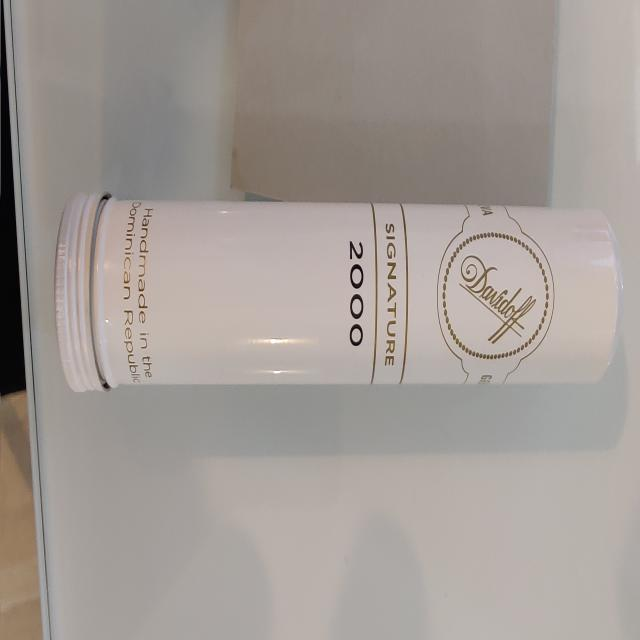Davidoff: (459, 255, 536, 344)
